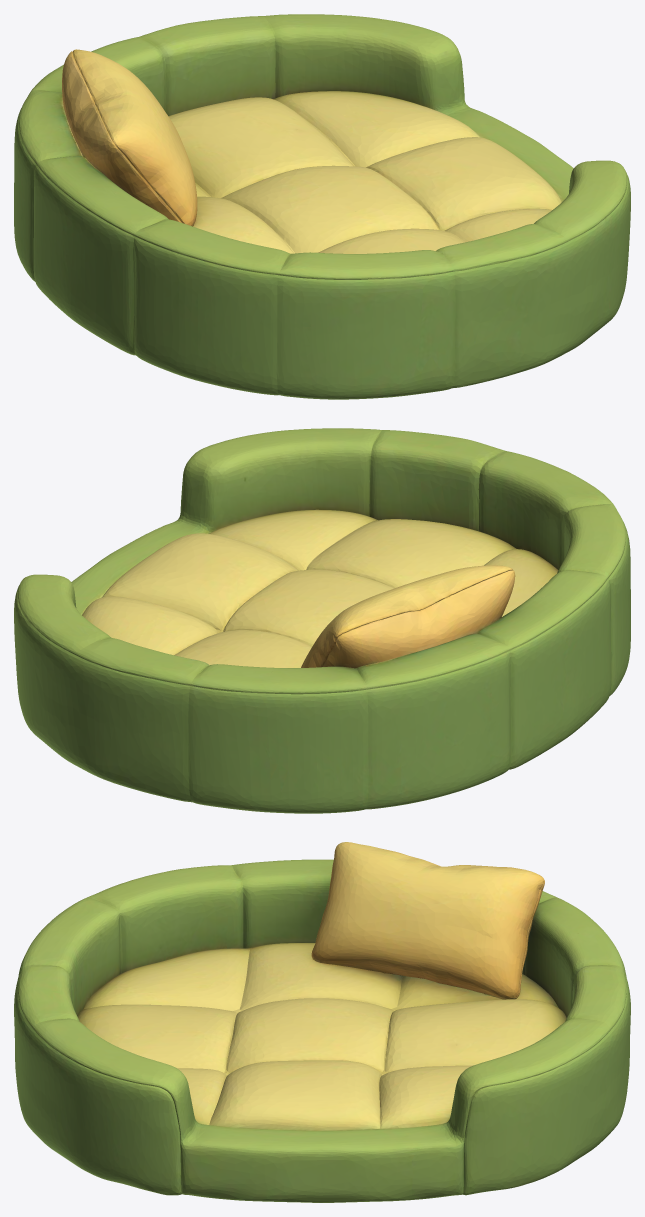
The model's file is DOM_mat_1__base.glb.
3 views of the same model, one above another, from view 1: azimuth 30°, elevation 25°; view 2: azimuth 150°, elevation 25°; view 3: azimuth 270°, elevation 25° (orthographic). The views are drawn at different scales.
Visible parts, largest first — view 1: tripo_node_d9f4d43c-a222-402b-9ff9-59990ac17f5e; view 2: tripo_node_d9f4d43c-a222-402b-9ff9-59990ac17f5e; view 3: tripo_node_d9f4d43c-a222-402b-9ff9-59990ac17f5e.
Boxes of the visible parts, <box> form: tripo_node_d9f4d43c-a222-402b-9ff9-59990ac17f5e: <box>14,14,630,399</box>; tripo_node_d9f4d43c-a222-402b-9ff9-59990ac17f5e: <box>14,428,630,813</box>; tripo_node_d9f4d43c-a222-402b-9ff9-59990ac17f5e: <box>14,842,630,1202</box>.
Bounding box in the file's own units: 0.8487 × 0.2925 × 0.9798.
Materials: 1 (1 with a texture image).
